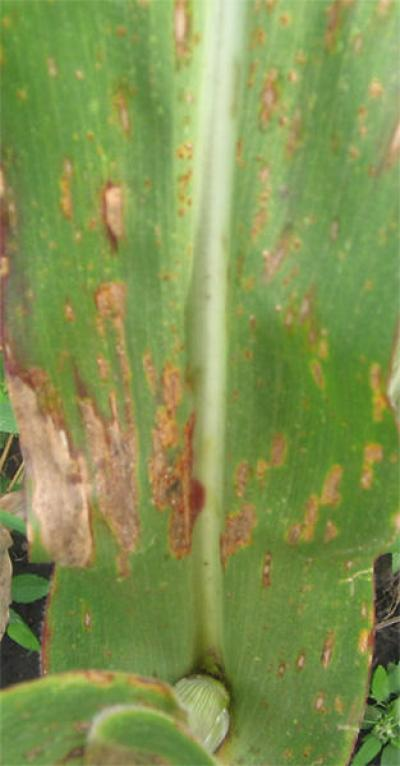Corn_Blight: (57, 298, 231, 577), (245, 402, 379, 577), (247, 20, 316, 301), (7, 159, 51, 569), (57, 151, 153, 281), (28, 44, 141, 131), (350, 68, 399, 205), (269, 633, 353, 693), (165, 8, 215, 74)
